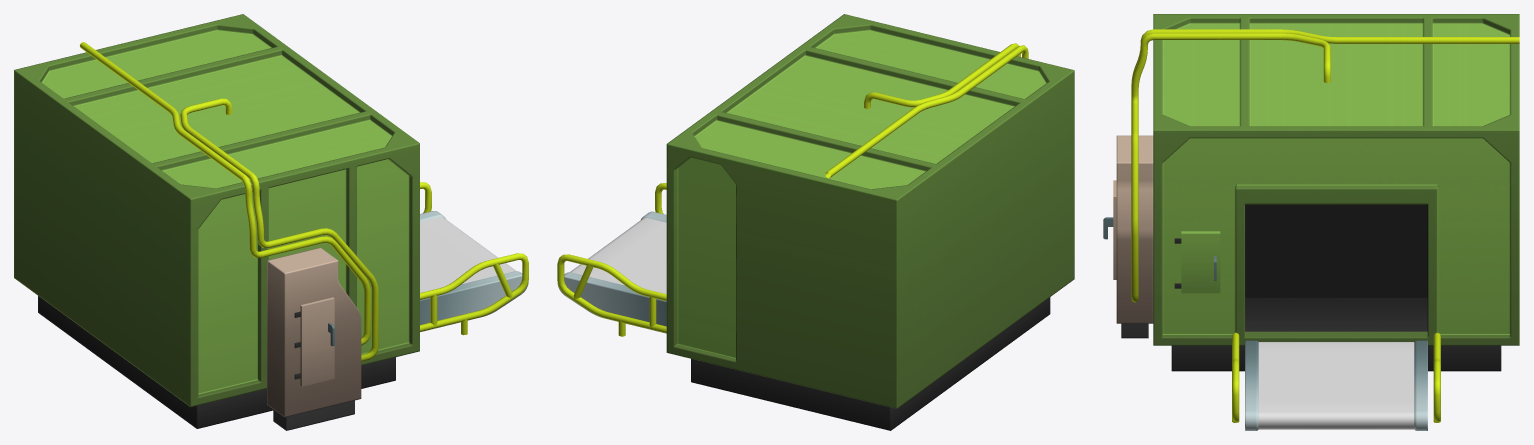
Rendered from SM_box_spawner_2.fbx.
3 renders of one model, left to right at view 1: azimuth 30°, elevation 25°; view 2: azimuth 150°, elevation 25°; view 3: azimuth 270°, elevation 25°, orthographic. The views are drawn at different scales.
Parts seen in each view (by area): view 1: SM_box_spawner_2, Cube.001, Pipe Curve.002, Plane.001, Plane.003, Plane, Pipe Curve; view 2: SM_box_spawner_2, Plane.001, Pipe Curve.002, Plane, Pipe Curve; view 3: SM_box_spawner_2, Plane.001, Cube.001, Pipe Curve.002, Plane.002, Plane, Pipe Curve, Plane.003.
Boxes of the visible parts, box(x1,y1,x2,y2) form: SM_box_spawner_2: box(14, 14, 419, 428); Cube.001: box(267, 247, 361, 430); Pipe Curve.002: box(80, 42, 378, 361); Plane.001: box(420, 217, 516, 292); Plane.003: box(294, 297, 334, 386); Plane: box(420, 211, 528, 331); Pipe Curve: box(420, 182, 528, 335); SM_box_spawner_2: box(666, 14, 1074, 430); Plane.001: box(570, 218, 666, 294); Pipe Curve.002: box(825, 43, 1028, 178); Plane: box(557, 211, 666, 333); Pipe Curve: box(557, 183, 666, 336); SM_box_spawner_2: box(1153, 14, 1519, 371); Plane.001: box(1258, 342, 1414, 429); Cube.001: box(1116, 135, 1153, 338); Pipe Curve.002: box(1131, 29, 1519, 302); Plane.002: box(1174, 231, 1220, 293); Plane: box(1245, 340, 1427, 430); Pipe Curve: box(1232, 332, 1440, 422); Plane.003: box(1113, 180, 1116, 279).
Bounding box in the file's own units: 500 × 314 × 455.
